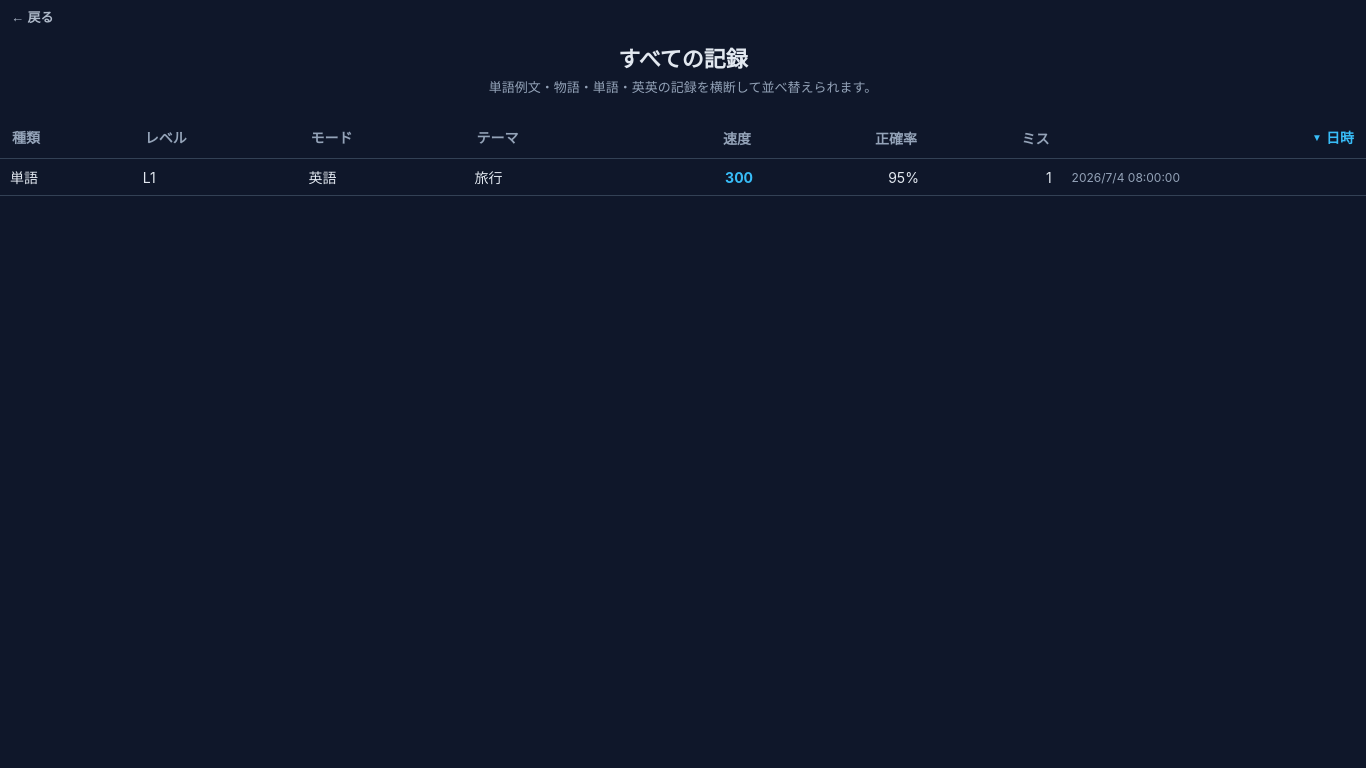
AllRecordsView container（行クリックで記録詳細） › 単語記録の行クリックで記録詳細が開き rankText に種類＋レベル＋テーマが出る
# データ行（単語）をクリック。
Click the text "単語": (66, 177) [0,158,133,196]
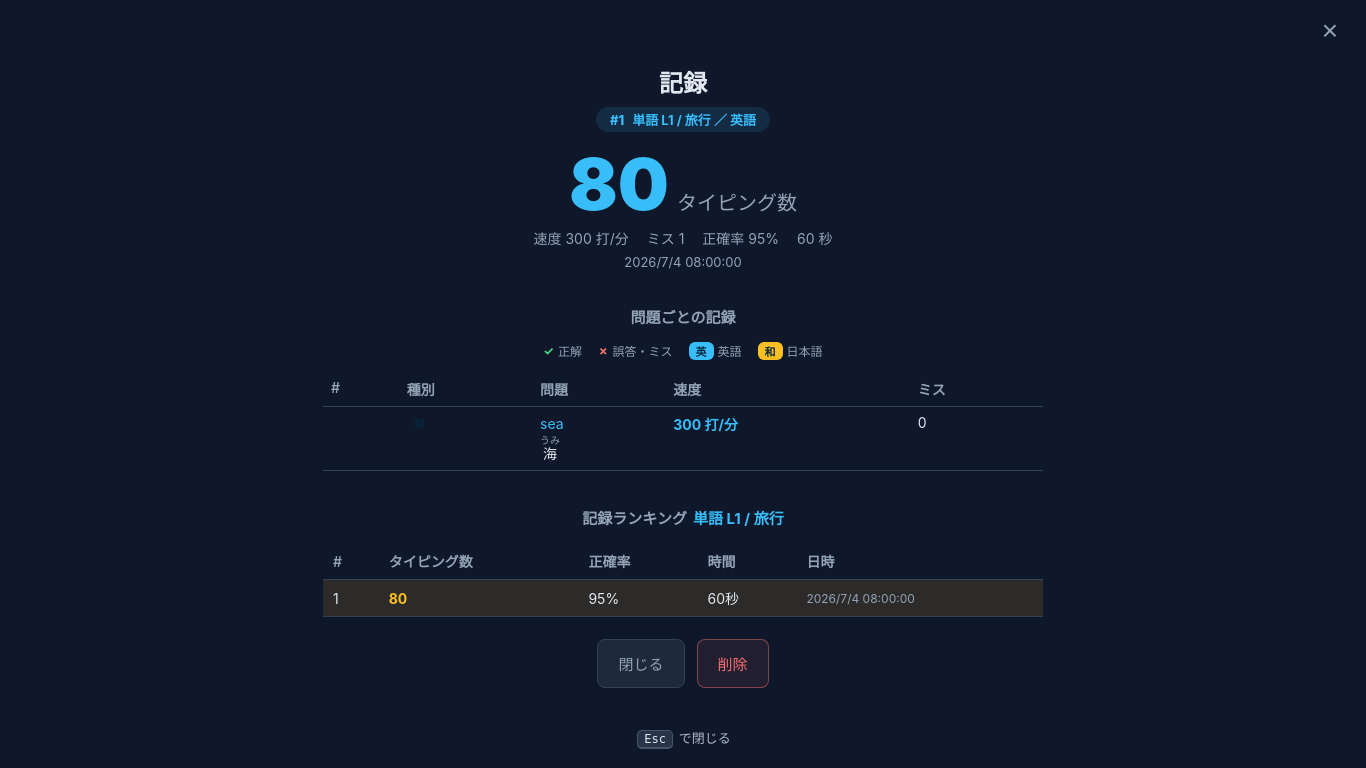
Expected: the text "単語 L1 / 旅行" is shown, [693,509,784,528]
